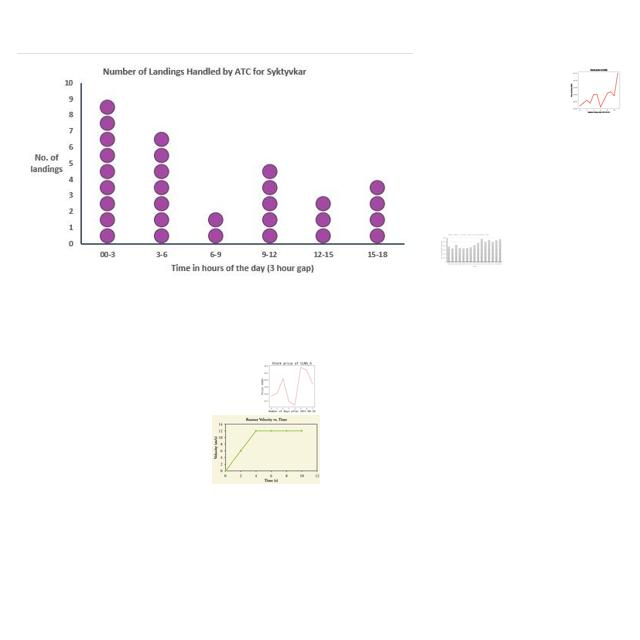Graph: (17, 53, 413, 285), (212, 415, 320, 484), (255, 359, 327, 413), (566, 66, 630, 114), (439, 233, 503, 268)
